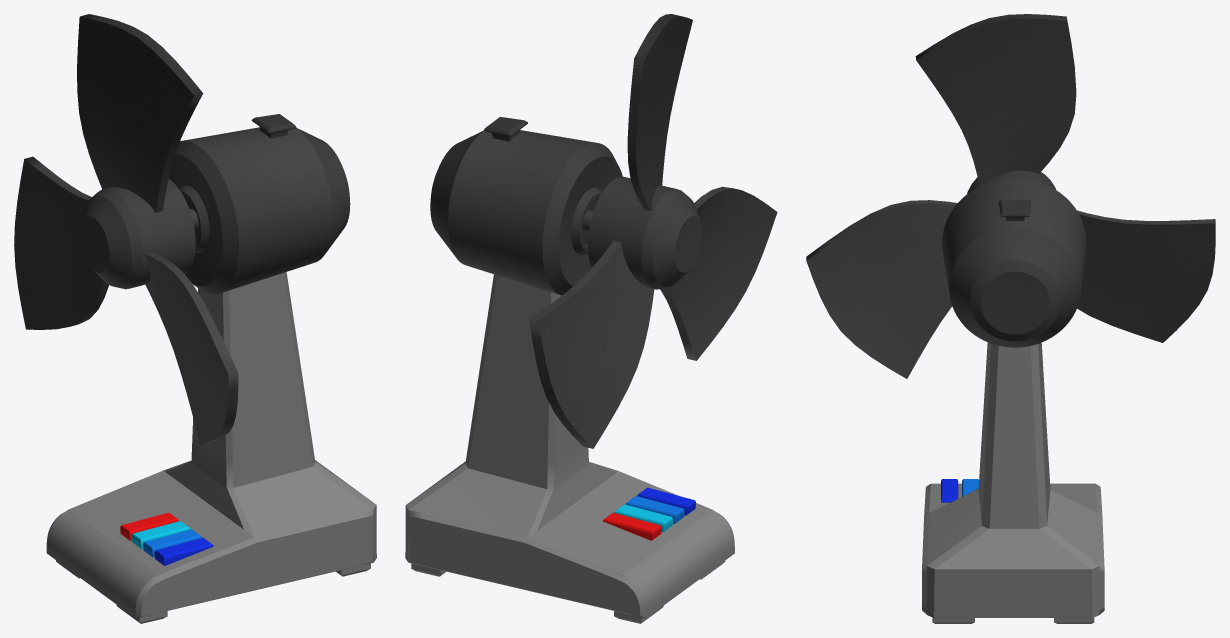
File: Fan.FBX
The picture shows the model from 3 angles, left to right: view 1: azimuth 30°, elevation 25°; view 2: azimuth 150°, elevation 25°; view 3: azimuth 270°, elevation 25°; orthographic projection. The views are drawn at different scales.
Visible parts, largest first — view 1: Cube, Plane_361; view 2: Cube, Plane_361; view 3: Cube, Plane_361.
Boxes of the visible parts, box(x1,y1,x2,y2) form: Cube: box(46, 114, 376, 623); Plane_361: box(14, 14, 238, 444); Cube: box(405, 117, 734, 623); Plane_361: box(529, 14, 777, 448); Cube: box(922, 178, 1104, 623); Plane_361: box(806, 14, 1215, 378).
Size of the model in its own units: 0.2538 by 0.4027 by 0.5617.
Materials: 1 (1 with a texture image).
